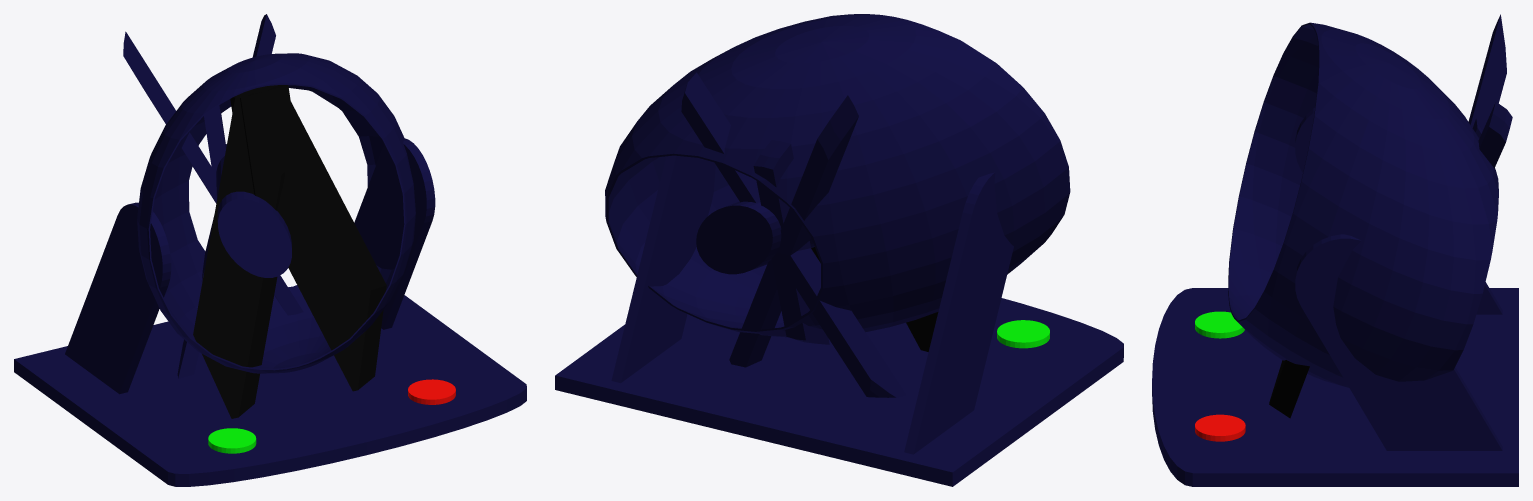
Rendered from deskfan.fbx.
The picture shows the model from 3 angles, left to right: view 1: azimuth 30°, elevation 25°; view 2: azimuth 150°, elevation 25°; view 3: azimuth 270°, elevation 25°; orthographic projection. The views are drawn at different scales.
Parts seen in each view (by area): view 1: Cube, Sphere, Cube.007, Cube.008, Cube.001, Cube.002, Cylinder, Cube.003, Cube.006, Cube.005, Cube.004, Cylinder.001 (+1 smaller); view 2: Sphere, Cube, Cube.001, Cube.002, Cube.005, Cube.003, Cylinder, Cube.004, Cylinder.001, Cube.008; view 3: Sphere, Cube, Cube.002, Cube.003, Cube.007, Cube.005, Cube.001, Cylinder.002, Cylinder.001.
Boxes of the visible parts, <box> form: Cube: <box>14,295,526,486</box>; Sphere: <box>137,53,415,373</box>; Cube.007: <box>253,85,386,391</box>; Cube.008: <box>193,89,285,418</box>; Cube.001: <box>65,202,171,394</box>; Cube.002: <box>354,138,435,329</box>; Cylinder: <box>216,144,291,277</box>; Cube.003: <box>123,31,303,315</box>; Cube.006: <box>230,85,296,228</box>; Cube.005: <box>177,14,275,378</box>; Cube.004: <box>204,105,226,200</box>; Cylinder.001: <box>208,428,256,453</box>; Sphere: <box>605,14,1070,337</box>; Cube: <box>555,298,1123,486</box>; Cube.001: <box>904,172,1013,454</box>; Cube.002: <box>611,155,715,382</box>; Cube.005: <box>681,72,905,397</box>; Cube.003: <box>729,95,858,367</box>; Cylinder: <box>696,201,814,274</box>; Cube.004: <box>753,140,829,344</box>; Cylinder.001: <box>997,320,1049,348</box>; Cube.008: <box>906,312,938,351</box>; Sphere: <box>1228,22,1498,387</box>; Cube: <box>1152,288,1518,486</box>; Cube.002: <box>1295,234,1502,450</box>; Cube.003: <box>1468,14,1506,129</box>; Cube.007: <box>1269,360,1309,418</box>; Cube.005: <box>1478,102,1512,168</box>; Cube.001: <box>1295,107,1502,314</box>; Cylinder.002: <box>1195,414,1245,441</box>; Cylinder.001: <box>1195,311,1244,338</box>.
Bounding box in the file's own units: 1726 × 1578 × 1445.
